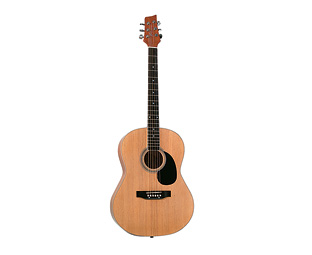guitar: (109, 13, 195, 238)
